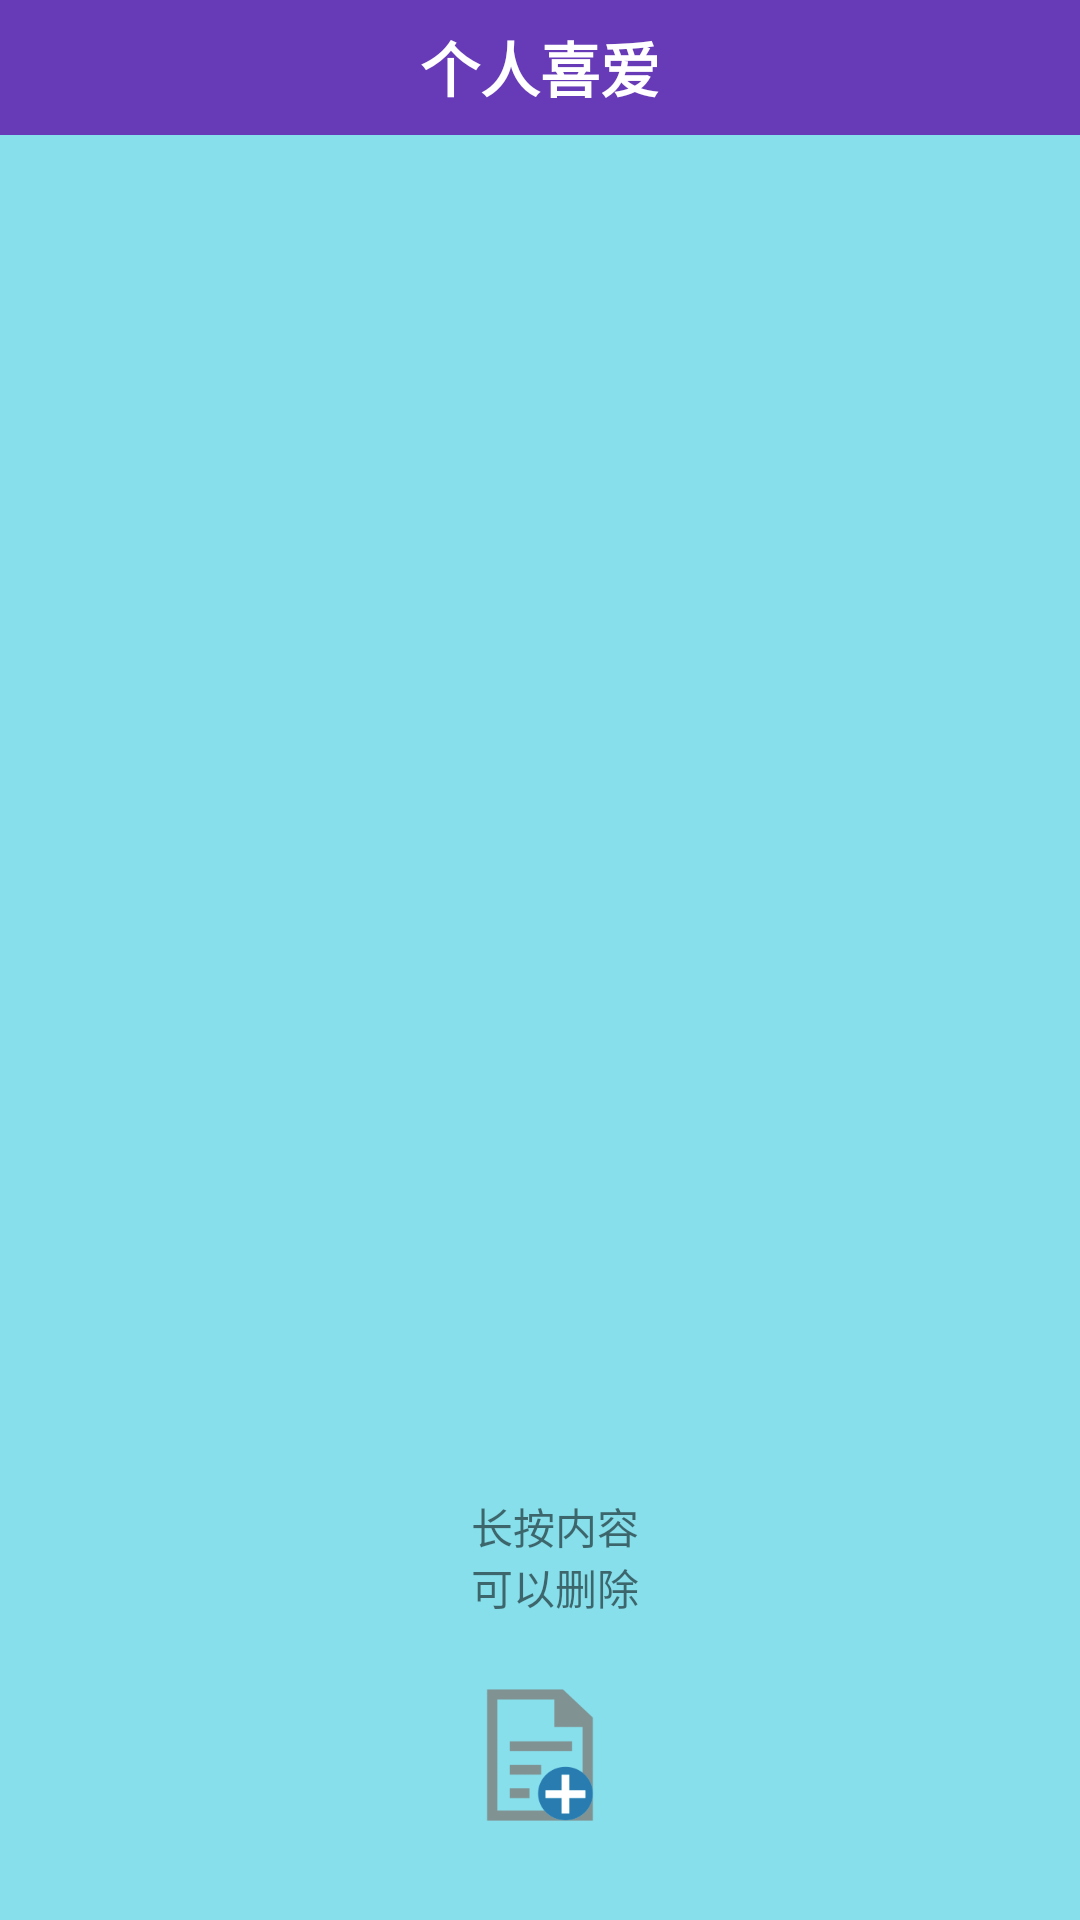

Screen size 1080w x 1920h. Icon name, then its box in pixels as (x1, y1, x2, y2):
wenjiantianjia: (487, 1689, 593, 1821)
